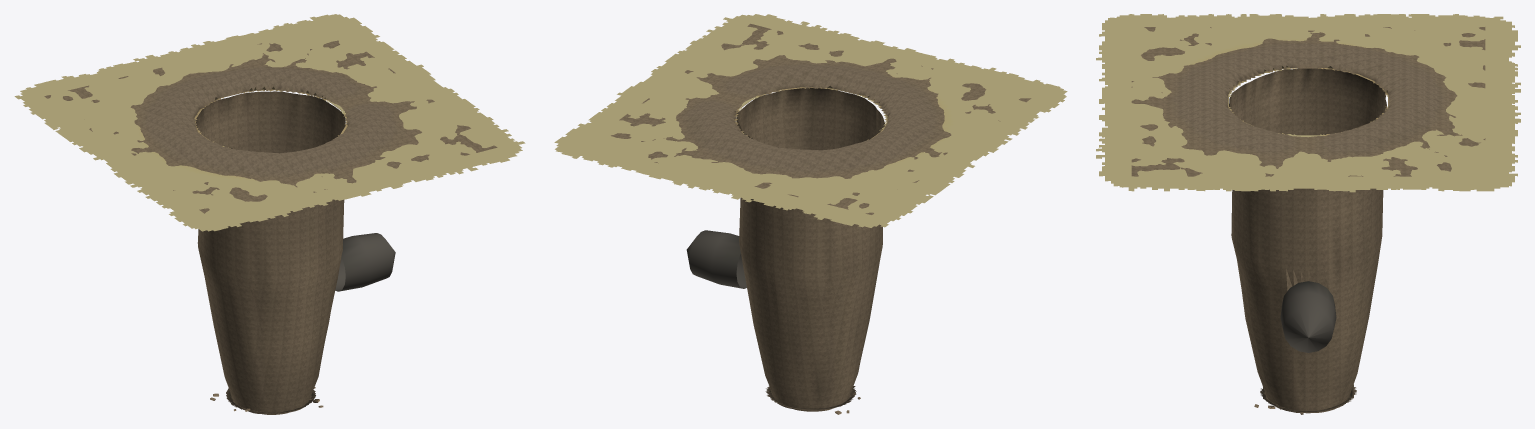
The picture shows the model from 3 angles, left to right: view 1: azimuth 30°, elevation 25°; view 2: azimuth 150°, elevation 25°; view 3: azimuth 270°, elevation 25°; orthographic projection. The views are drawn at different scales.
Visible parts, largest first — view 1: sediment, hole_walls, reef_rim, the_arch; view 2: sediment, hole_walls, reef_rim, the_arch; view 3: sediment, hole_walls, reef_rim, the_arch.
Boxes of the visible parts, x1,y1,x2,y2 form: sediment: (14, 14, 525, 231); hole_walls: (196, 91, 345, 414); reef_rim: (44, 40, 497, 213); the_arch: (335, 233, 395, 291); sediment: (554, 14, 1067, 227); hole_walls: (736, 88, 884, 411); reef_rim: (611, 23, 1031, 214); the_arch: (686, 230, 746, 288); sediment: (1096, 14, 1520, 192); hole_walls: (1229, 68, 1386, 413); reef_rim: (1131, 27, 1485, 176); the_arch: (1280, 281, 1336, 352).
Size of the model in its own units: 143 by 115 by 144.
3 materials, 1 textured.
